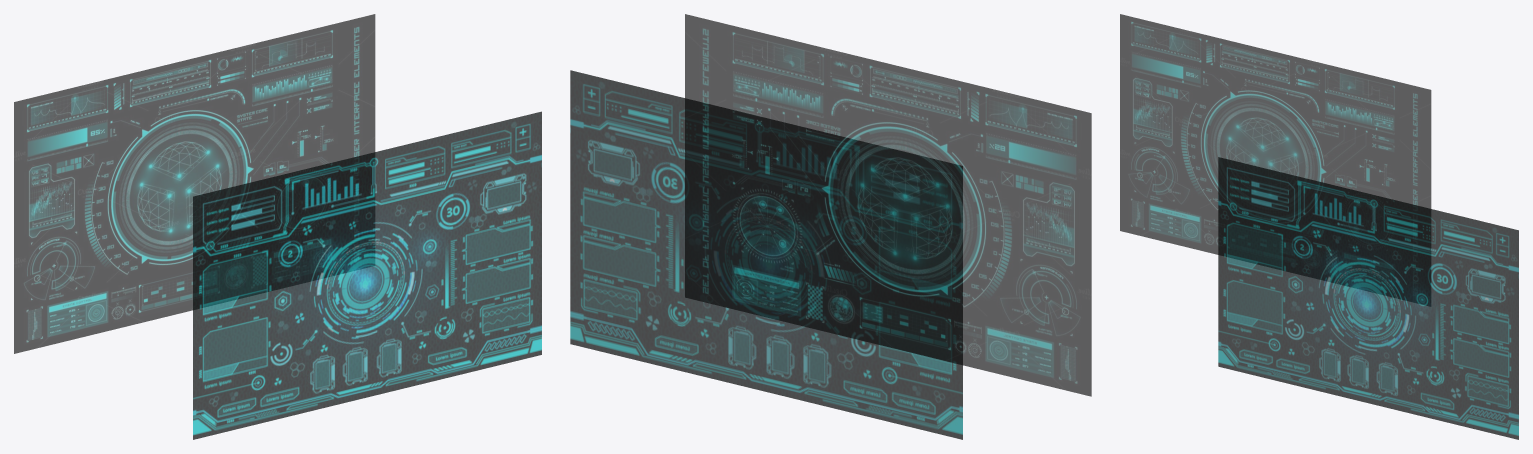
Rendered from livingtv.glb.
The picture shows the model from 3 angles, left to right: view 1: azimuth 30°, elevation 25°; view 2: azimuth 150°, elevation 25°; view 3: azimuth 330°, elevation 25°; orthographic projection. The views are drawn at different scales.
Parts seen in each view (by area): view 1: Object_5, Object_7; view 2: Object_5, Object_7; view 3: Object_5, Object_7.
Part boxes in pixels (x1,y1,x2,y2): Object_5: (14, 14, 375, 353); Object_7: (193, 111, 541, 439); Object_5: (685, 14, 1091, 396); Object_7: (570, 70, 962, 439); Object_5: (1120, 14, 1431, 305); Object_7: (1218, 157, 1518, 439).
Size of the model in its own units: 0.7284 by 0.4916 by 0.0827.
2 materials, 2 textured.
